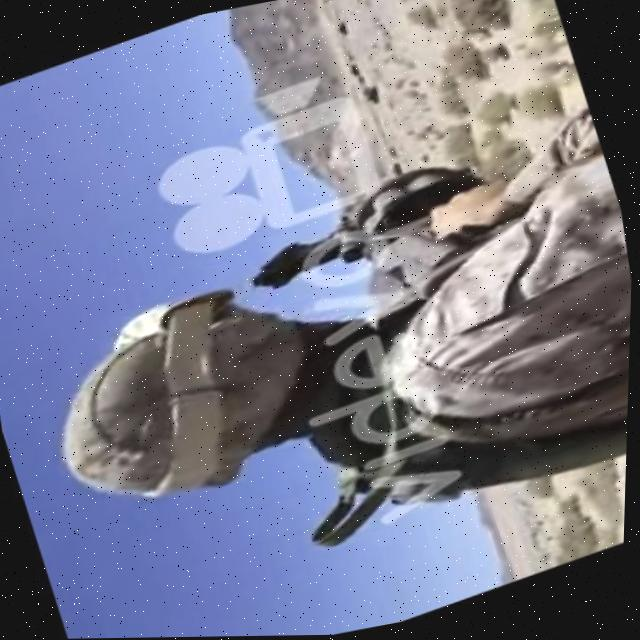rocket: (247, 141, 529, 332)
